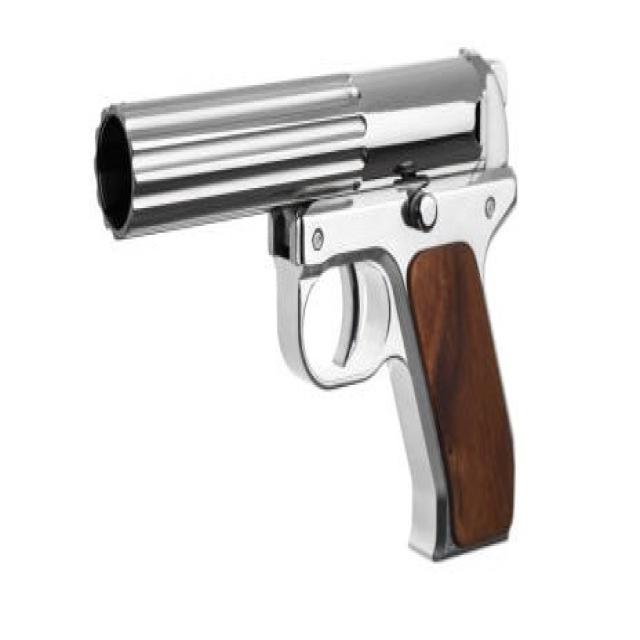pistol: (90, 44, 518, 563)
